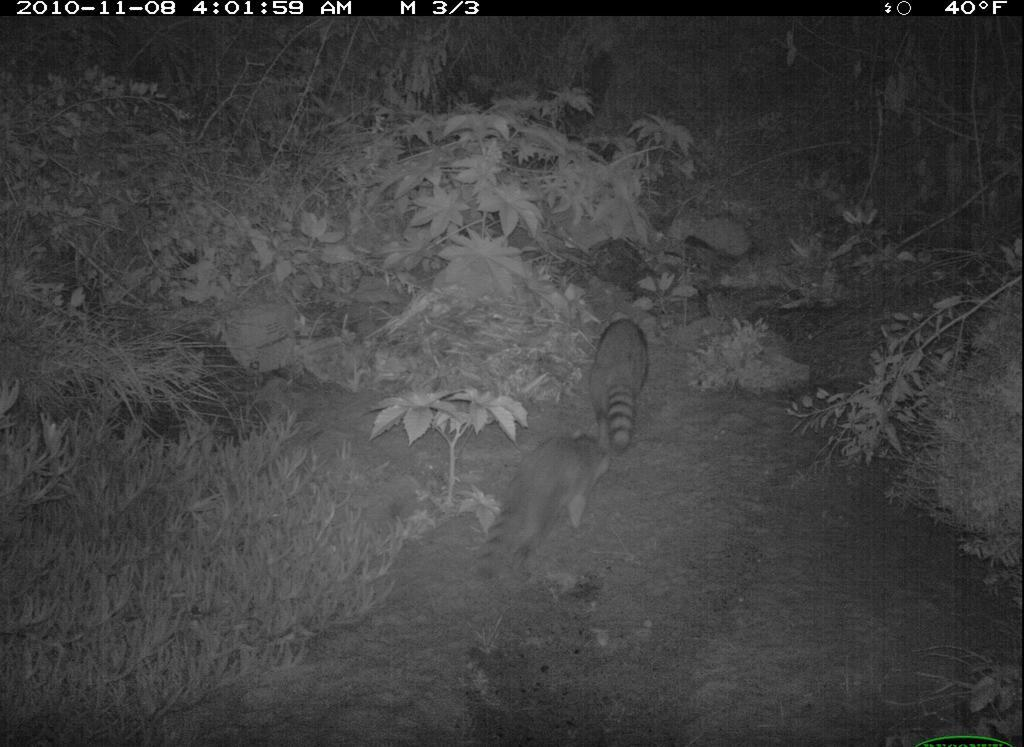raccoon: (464, 432, 616, 591), (587, 317, 655, 451)
